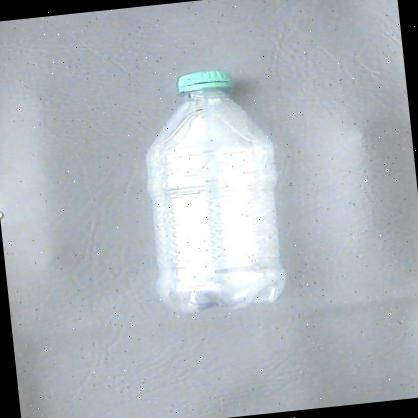bottle: (131, 60, 296, 320)
cap: (172, 66, 239, 94)
